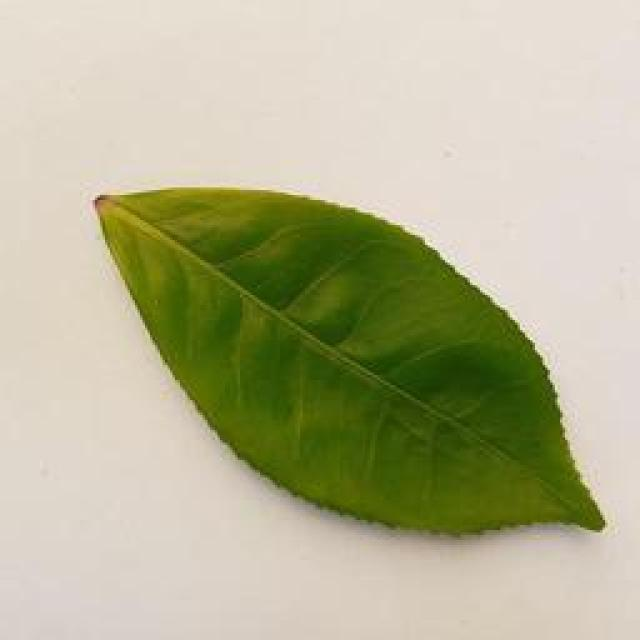Healthy: (94, 170, 609, 543)
